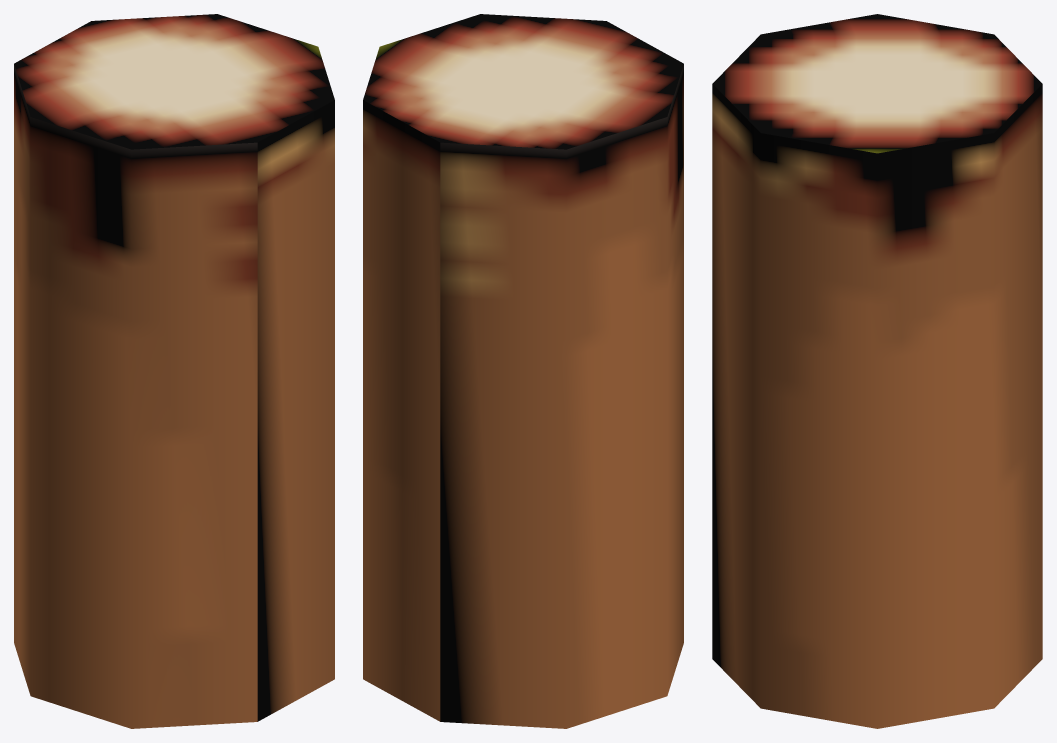
File: deco_poleCylinder.FBX
3 renders of one model, left to right at view 1: azimuth 30°, elevation 25°; view 2: azimuth 150°, elevation 25°; view 3: azimuth 270°, elevation 25°, orthographic.
Visible parts, largest first — view 1: deco_poleCylinder; view 2: deco_poleCylinder; view 3: deco_poleCylinder.
Boxes of the visible parts, <box> form: deco_poleCylinder: <box>14,14,334,728</box>; deco_poleCylinder: <box>363,14,683,728</box>; deco_poleCylinder: <box>712,14,1042,728</box>.
Size of the model in its own units: 0.7799 by 1.5 by 0.7799.
Materials: 1 (1 with a texture image).
